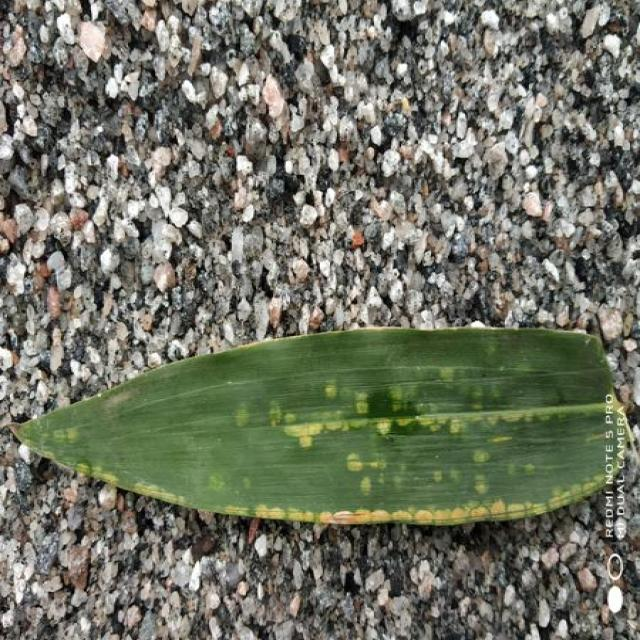Bamboo: (13, 329, 617, 524)
defectedBamboo: (268, 391, 603, 471)
